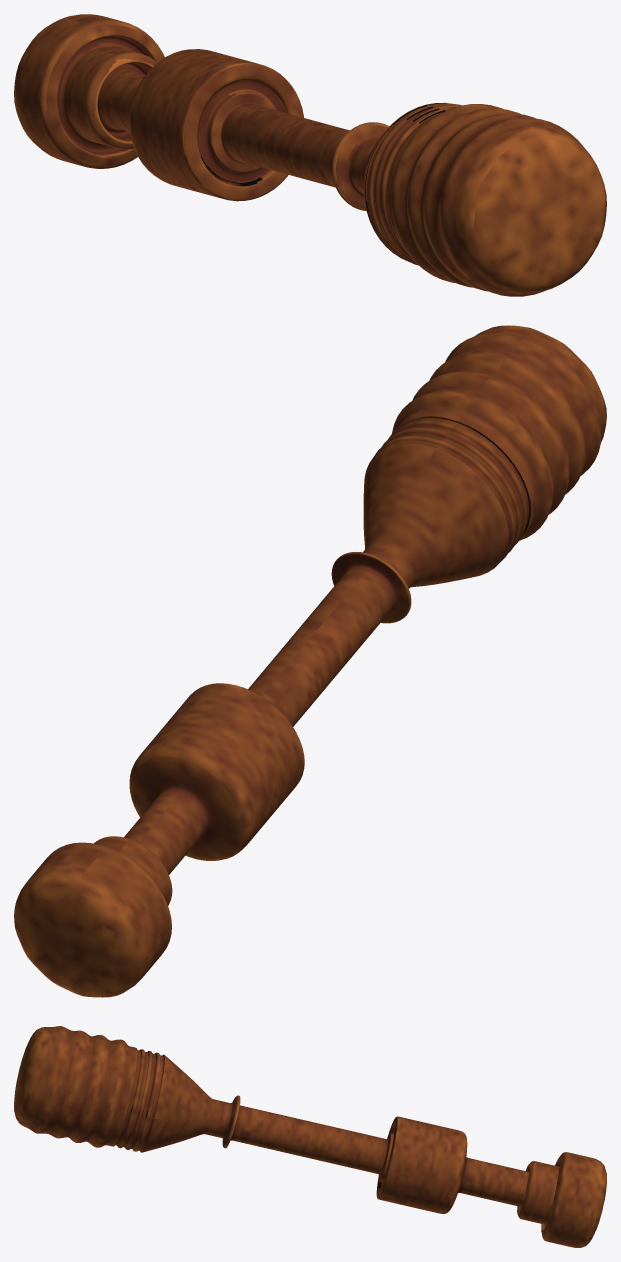
The picture shows the model from 3 angles, top to bottom: view 1: azimuth 30°, elevation 25°; view 2: azimuth 150°, elevation 25°; view 3: azimuth 270°, elevation 25°; orthographic projection. The views are drawn at different scales.
Visible parts, largest first — view 1: Cylinder.001; view 2: Cylinder.001; view 3: Cylinder.001.
Boxes of the visible parts, x1=… form: Cylinder.001: x1=14, y1=14, x2=606, y2=296; Cylinder.001: x1=14, y1=325, x2=606, y2=997; Cylinder.001: x1=14, y1=1026, x2=606, y2=1247.
Bounding box in the file's own units: 0.4337 × 0.9168 × 2.32.
Materials: 1 (1 with a texture image).
